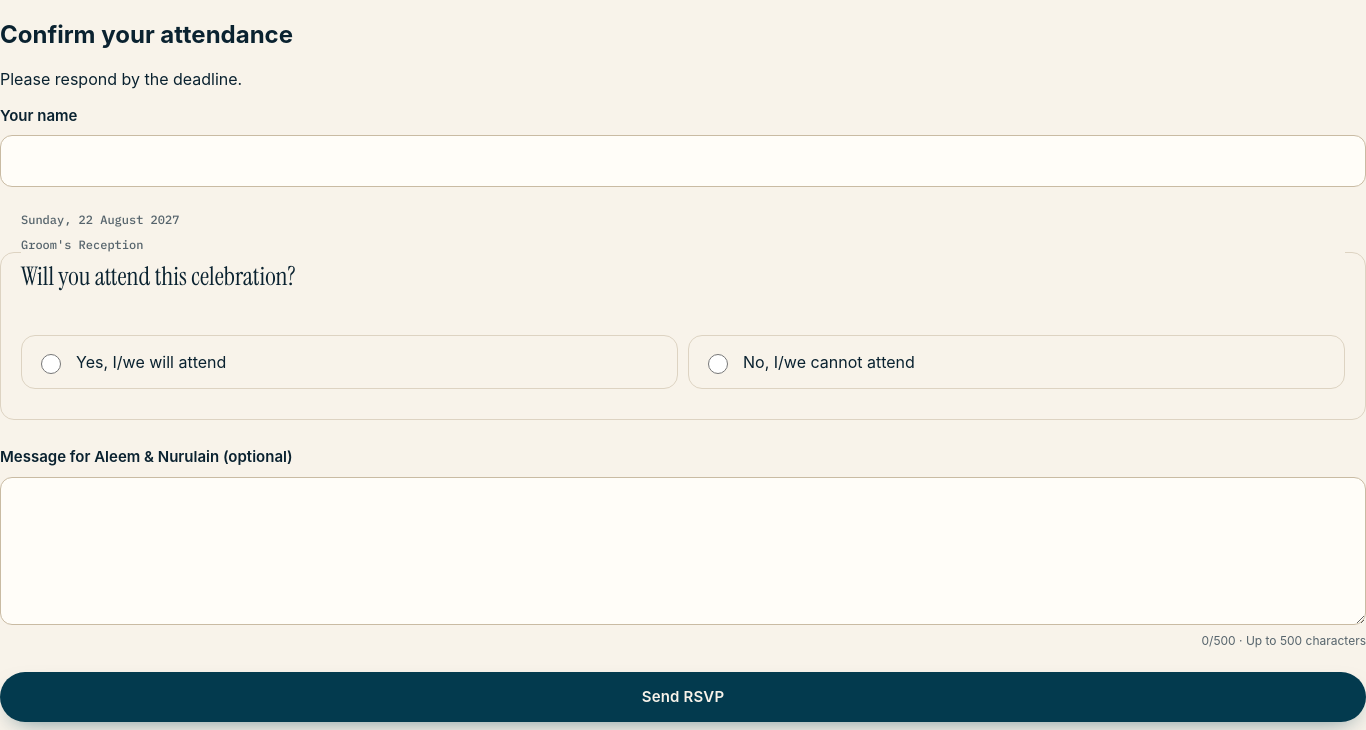
Test case: RSVP flight confirmation › replaces an attending form with submitted guest, event and venue details after a verified receipt
This screenshot has width=1366, height=730.
Type "Aminah Rahman" into the field labelled "Your name" at point(683, 161), box [0, 135, 1365, 187]
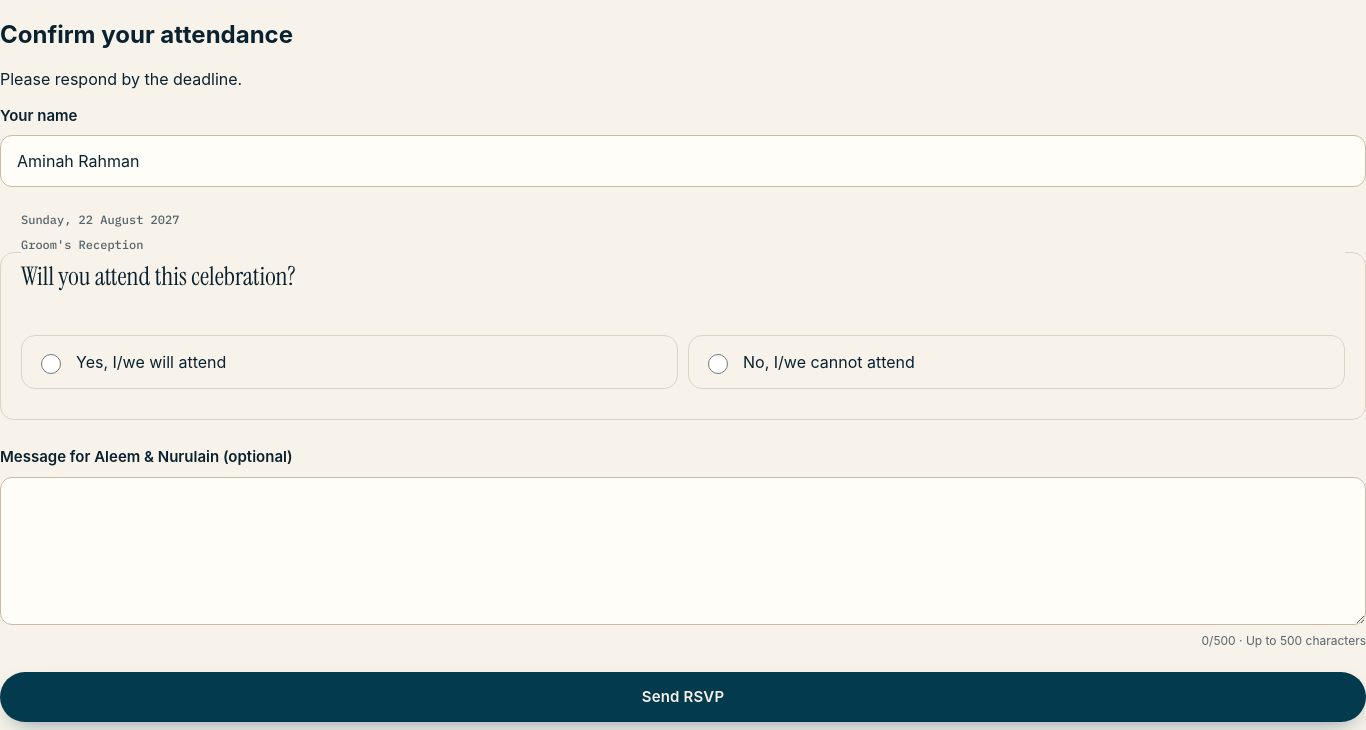
Click the radio button with id "attendance-0-yes" at point(51, 364), box [41, 354, 61, 374]
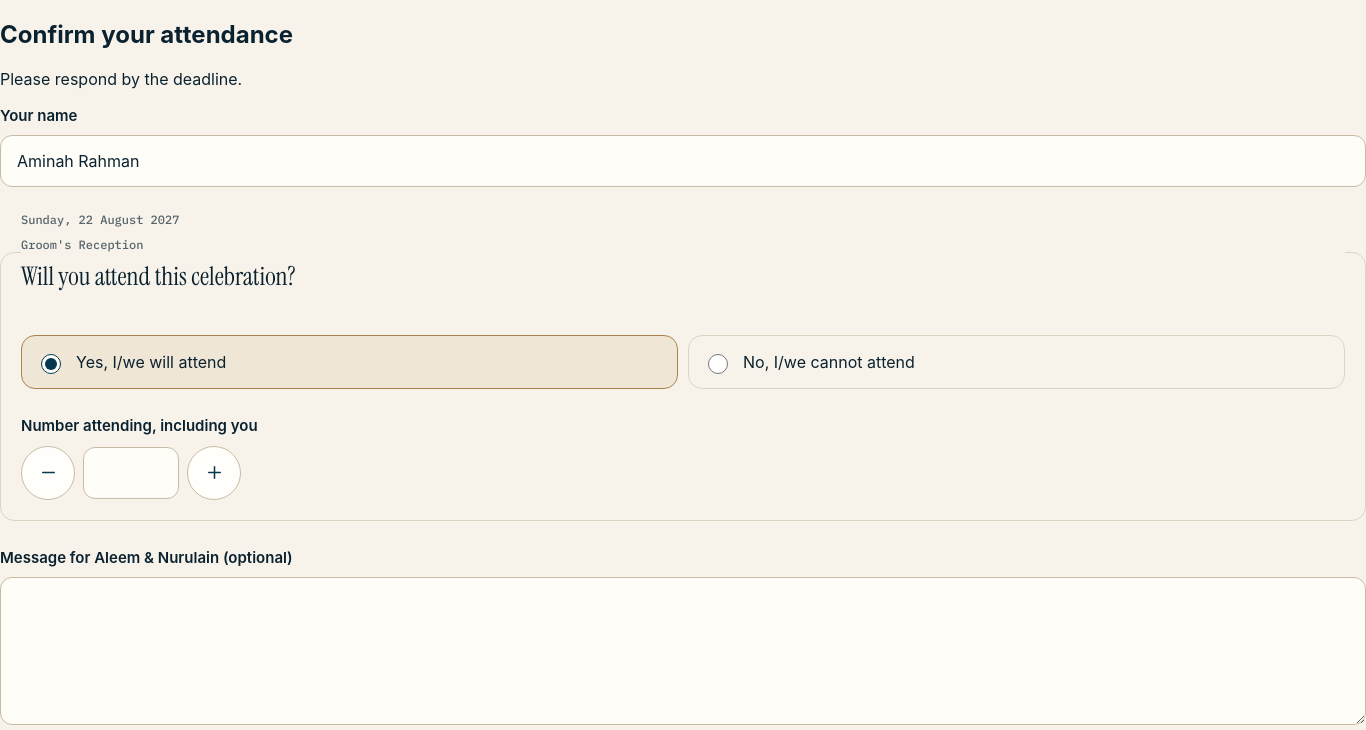
Type "2" into the number field labelled "Number attending, including you" at point(131, 473), box [83, 447, 179, 499]
(page scrolled)
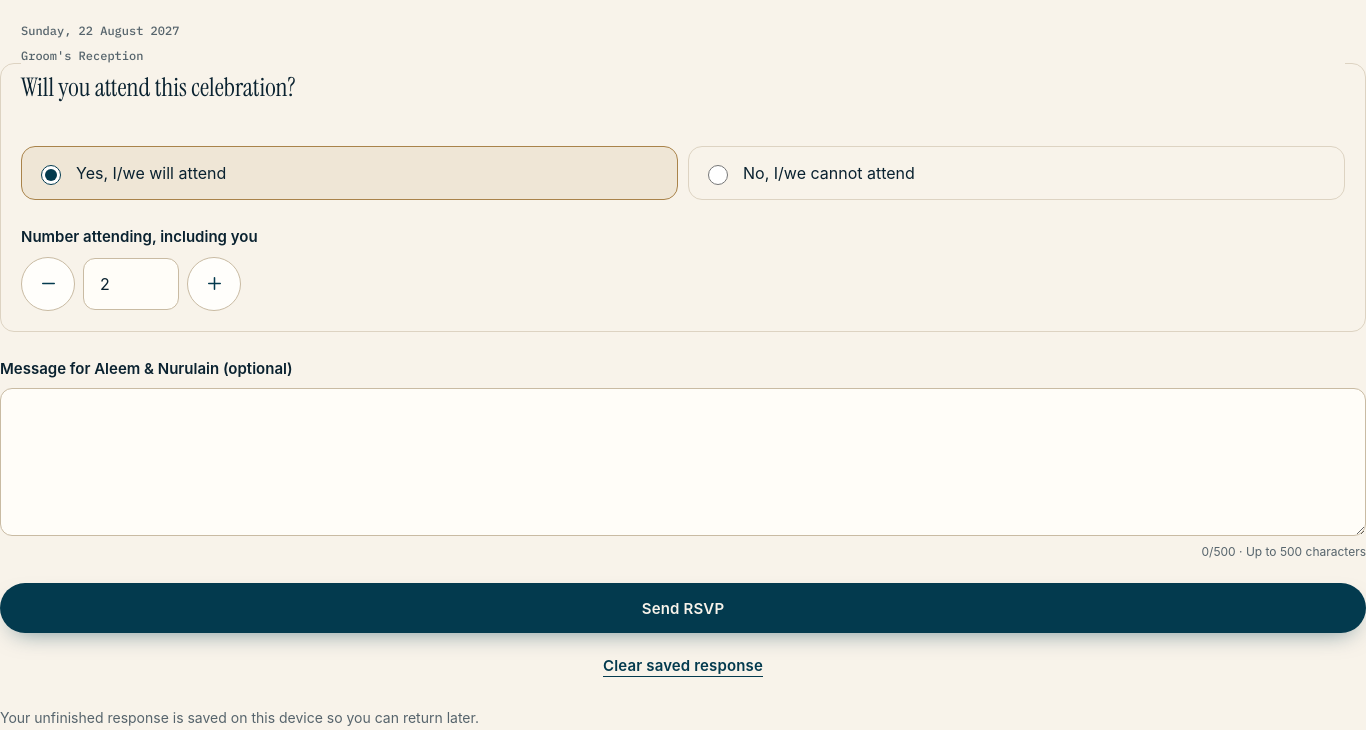
Click the button "Send RSVP" at point(683, 608), box [0, 583, 1365, 633]
(page scrolled)
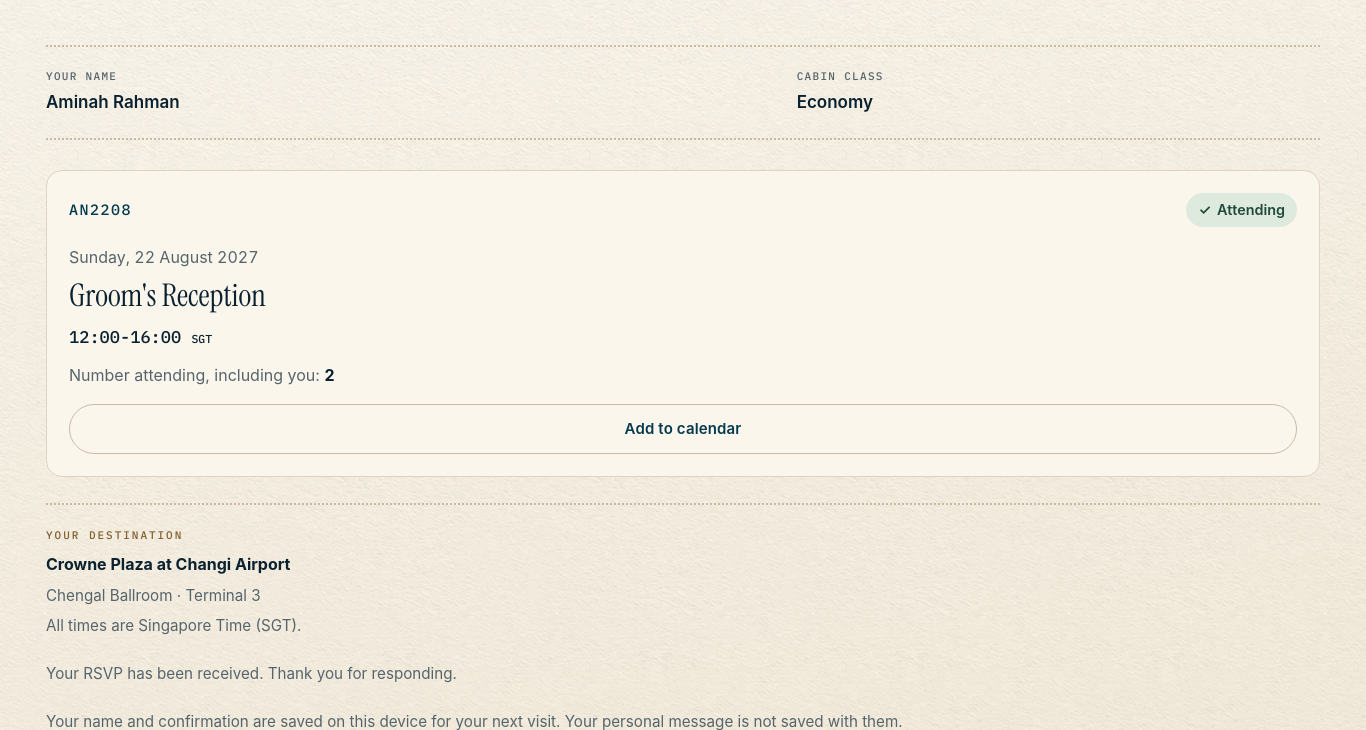
Expected: the text "Aminah Rahman" is shown, [46, 92, 180, 112]
Expected: the text "AN2208" is shown, [69, 202, 132, 217]
Expected: the text "12:00-16:00" is shown, [69, 326, 181, 348]
